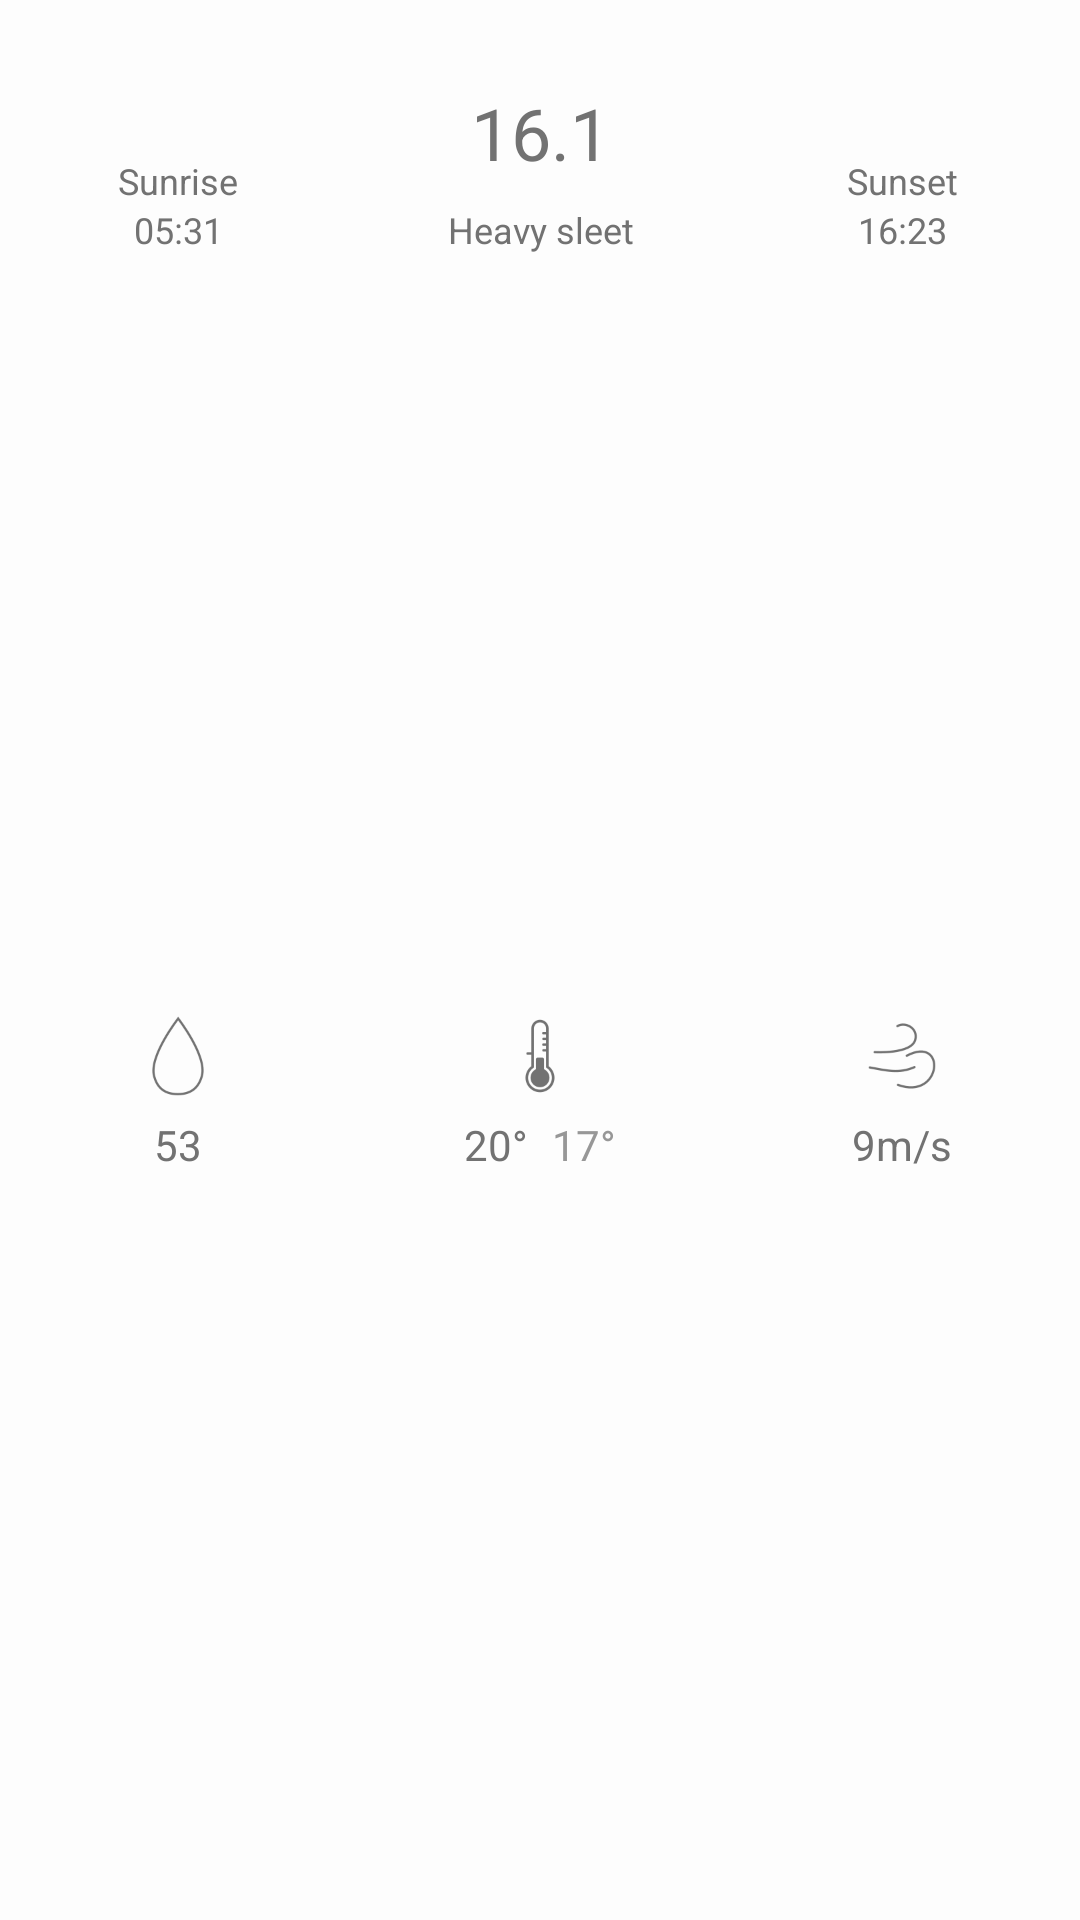

Screen size 1080 × 1920. Icon name, then its center in pixels as [x,y]:
wsymb droplet: [178,1056]
wsymb thermometer: [540,1056]
wsymb wind: [902,1056]
